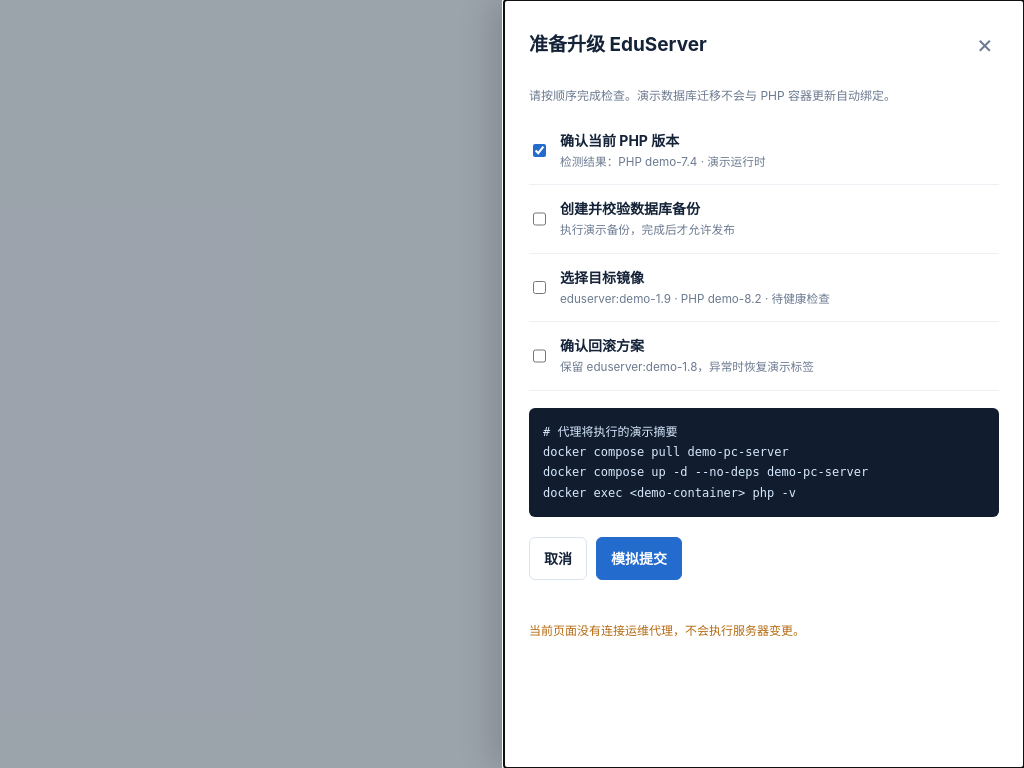
it: upgrade drawer › blocks submission until every checklist item is checked
Click the button "模拟提交": coordinates (639, 559) [596, 537, 682, 580]
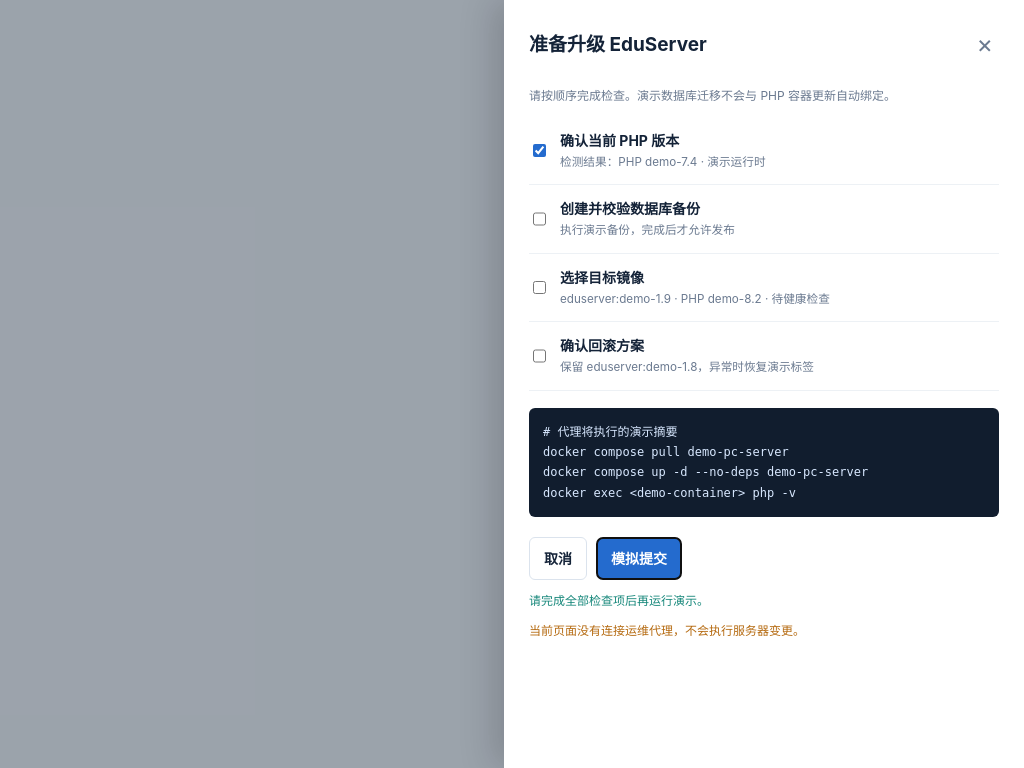
Check: the message reads "请完成全部检查项后再运行演示。", box [529, 593, 709, 608]
Click the checkbox labelled "创建并校验数据库备份 执行演示备份，完成后才允许发布": coordinates (540, 219) [533, 201, 546, 236]
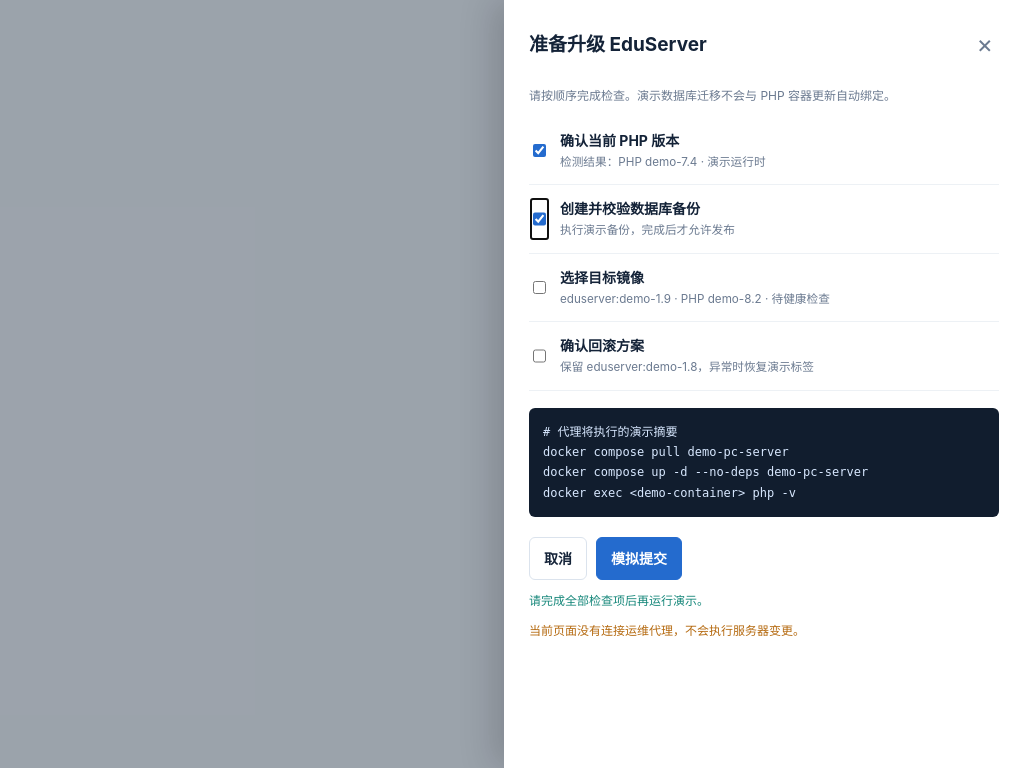
Click the checkbox labelled "选择目标镜像 eduserver:demo-1.9 · PHP demo-8.2 · 待健康检查": coordinates (540, 287) [533, 270, 546, 305]
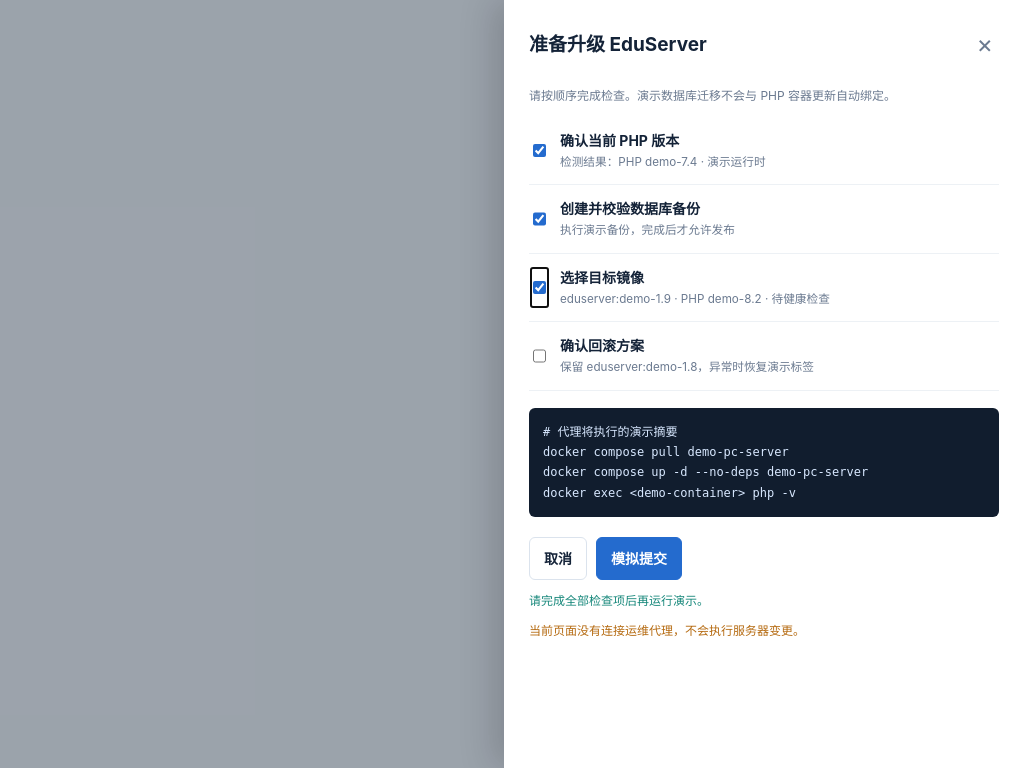
Click the checkbox labelled "确认回滚方案 保留 eduserver:demo-1.8，异常时恢复演示标签": coordinates (540, 356) [533, 338, 546, 374]
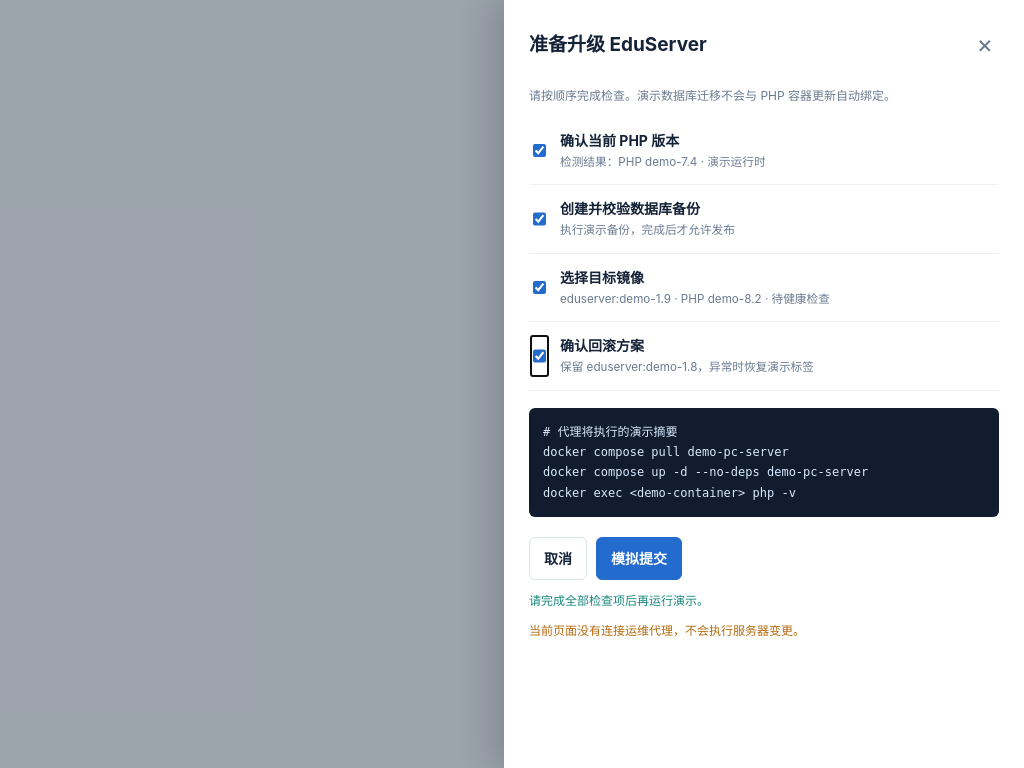
Click the button "模拟提交": coordinates (639, 559) [596, 537, 682, 580]
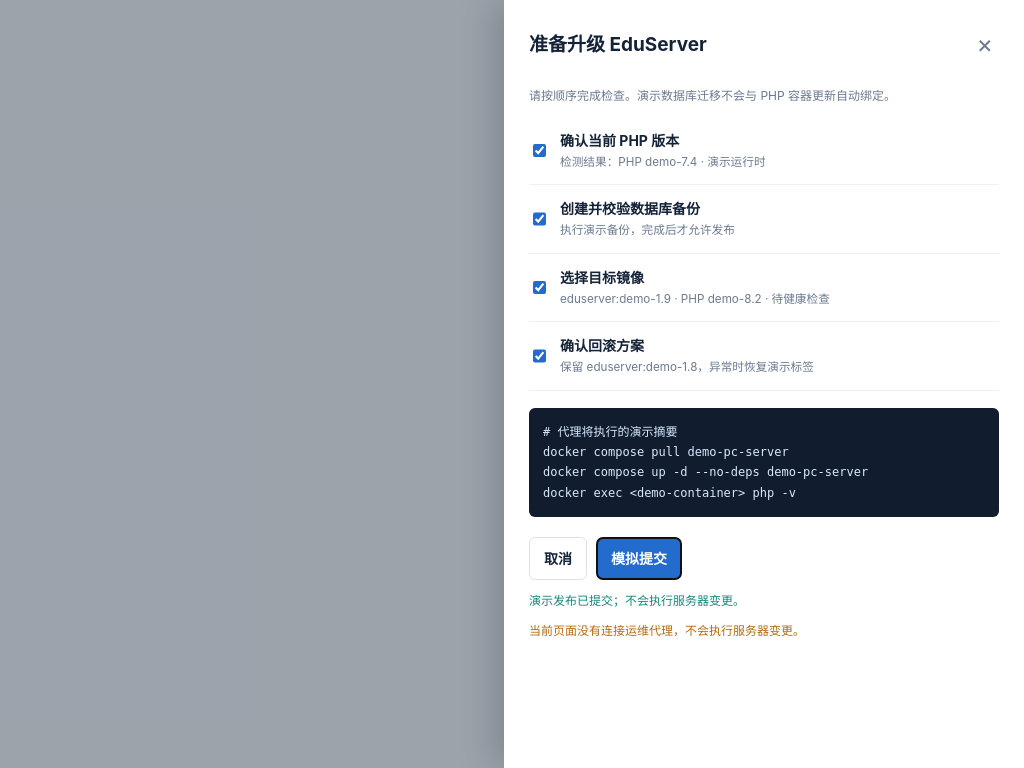
Check: the message reads "演示发布已提交；不会执行服务器变更。", box [529, 593, 745, 608]
Check: the message shows "不会执行服务器变更", box [529, 593, 745, 608]
